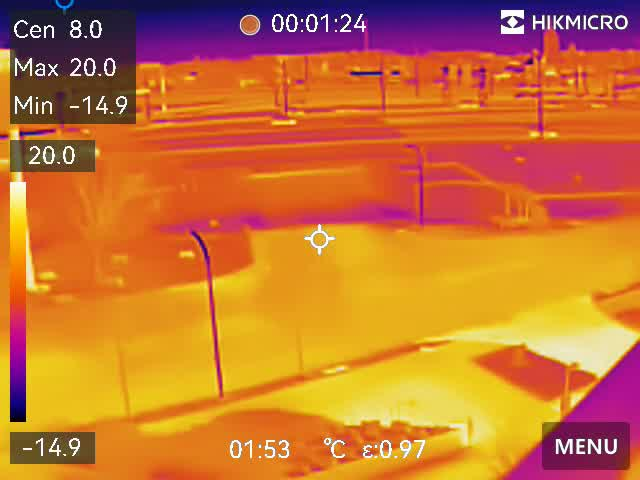vehicle: (527, 124, 562, 142), (266, 116, 303, 130), (448, 100, 483, 113)
